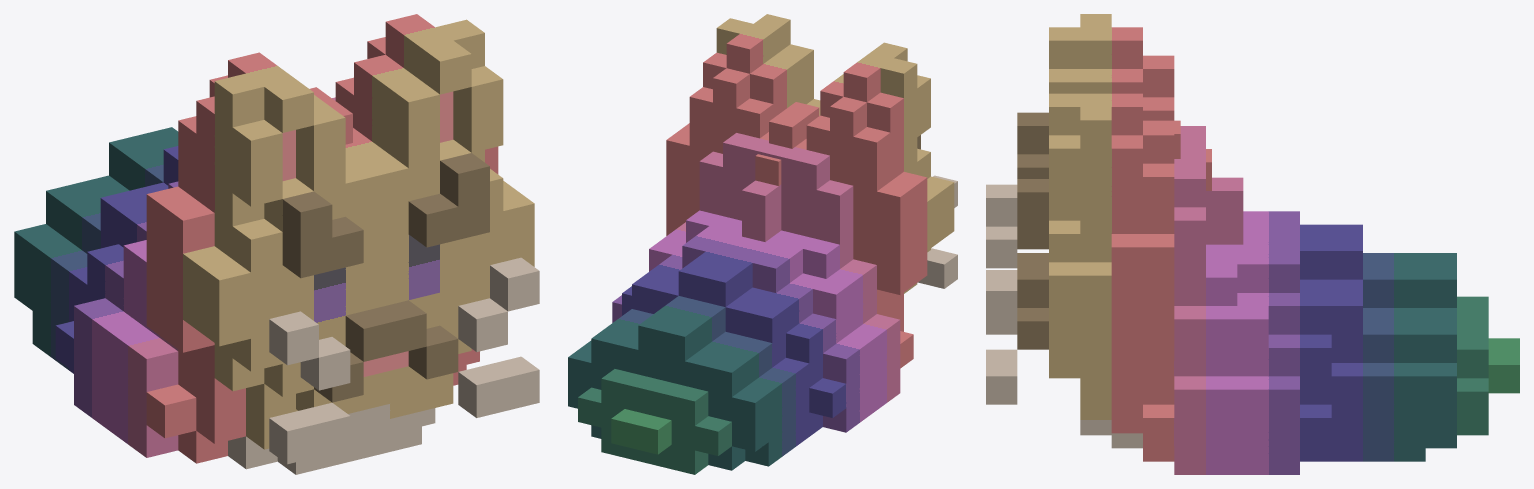
The model's file is skin_sunshine_1.fbx.
3 views of the same model, side by side, from view 1: azimuth 30°, elevation 25°; view 2: azimuth 150°, elevation 25°; view 3: azimuth 270°, elevation 25° (orthographic). The views are drawn at different scales.
Visible parts, largest first — view 1: skin_6-5, skin_6-0; view 2: skin_6-5, skin_6-0; view 3: skin_6-5, skin_6-0.
Part boxes in pixels (box(x1,y1,x2,y2)): skin_6-5: box(14, 14, 539, 474); skin_6-0: box(310, 87, 352, 144); skin_6-5: box(568, 14, 957, 474); skin_6-0: box(742, 102, 819, 241); skin_6-5: box(986, 14, 1519, 474); skin_6-0: box(1143, 120, 1243, 244).
Bounding box in the file's own units: 100 × 121 × 170.
Materials: 1 (1 with a texture image).
